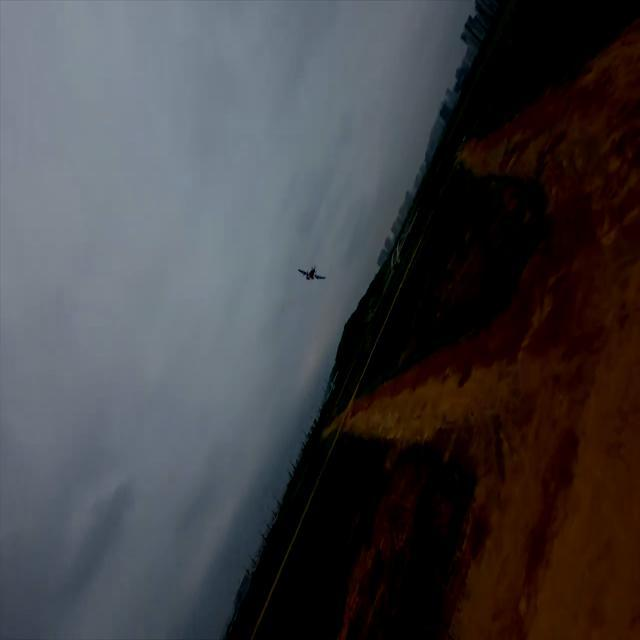iha: (296, 264, 326, 285)
